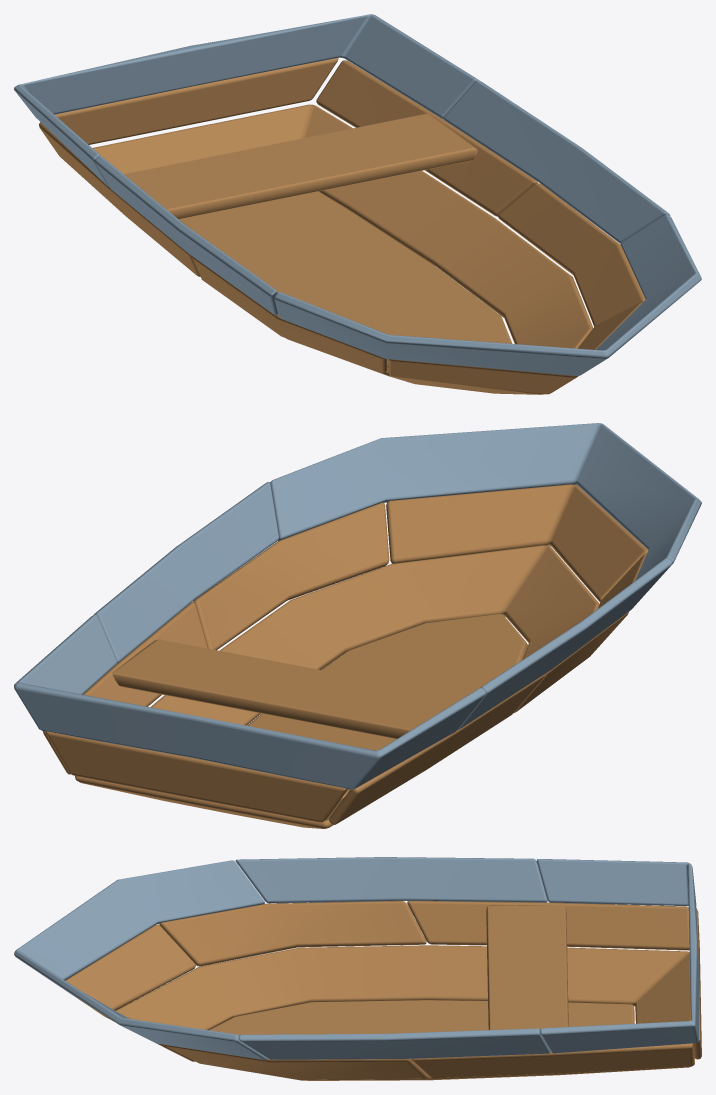
Rendered from animatedBoat (1).glb.
3 renders of one model, top to bottom at view 1: azimuth 30°, elevation 25°; view 2: azimuth 150°, elevation 25°; view 3: azimuth 270°, elevation 25°, orthographic. The views are drawn at different scales.
Parts seen in each view (by area): view 1: bloat, Plane.003, Plane.002, Plane.001, Plane.004; view 2: bloat, Plane.003, Plane.002, Plane.004, Plane.001; view 3: bloat, Plane.003, Plane.002, Plane.004, Plane.001.
Part boxes in pixels (<box>): bloat: <box>14,14,701,375</box>; Plane.003: <box>39,58,645,394</box>; Plane.002: <box>93,104,592,394</box>; Plane.001: <box>179,191,512,364</box>; Plane.004: <box>124,113,477,219</box>; bloat: <box>14,423,701,789</box>; Plane.003: <box>43,484,648,824</box>; Plane.002: <box>75,545,599,828</box>; Plane.004: <box>112,639,463,739</box>; Plane.001: <box>247,614,527,798</box>; bloat: <box>14,857,698,1059</box>; Plane.003: <box>65,900,701,1079</box>; Plane.002: <box>115,945,694,1080</box>; Plane.004: <box>486,905,568,1029</box>; Plane.001: <box>208,1000,634,1035</box>.
Bounding box in the file's own units: 2.98 × 0.9512 × 5.25.
